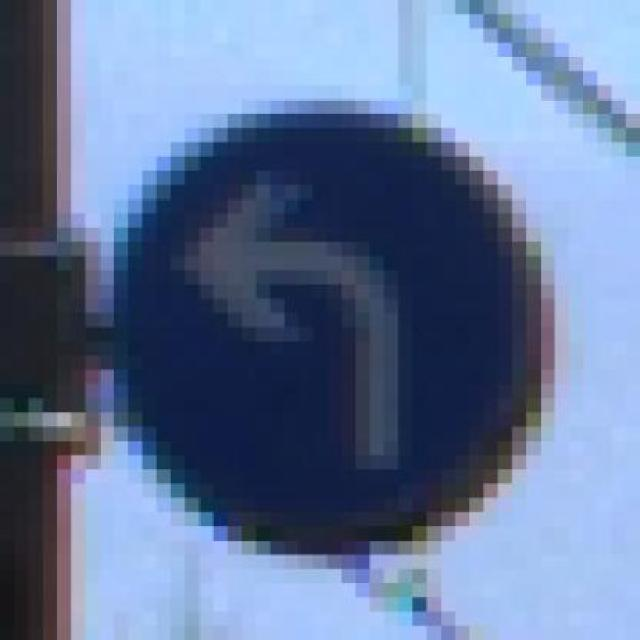Turn left ahead: (114, 85, 569, 583)
